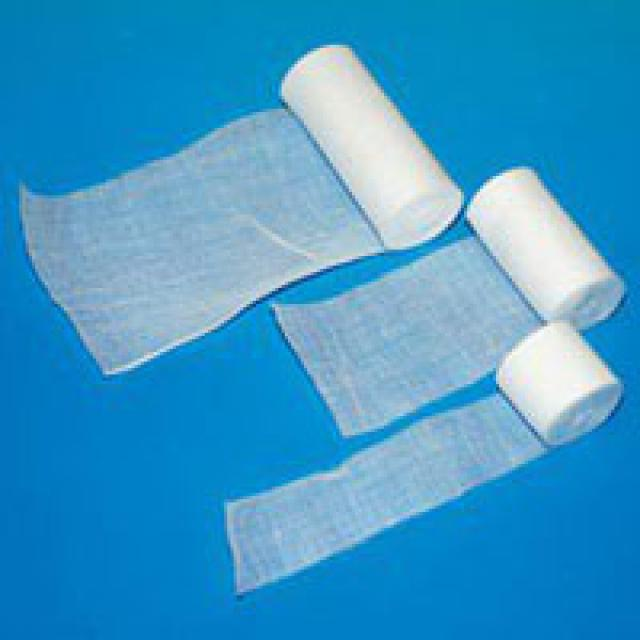B3: (256, 26, 470, 259), (451, 144, 637, 330), (464, 310, 640, 468)
